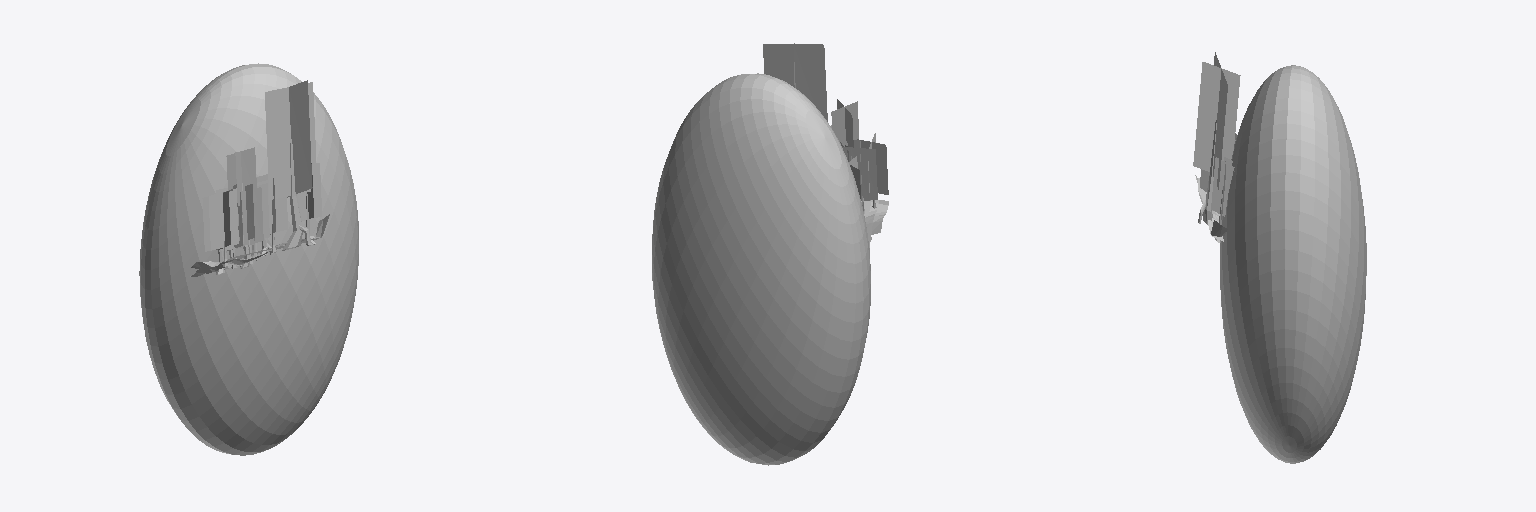
File: grab.obj
3 renders of one model, left to right at view 1: azimuth 30°, elevation 25°; view 2: azimuth 150°, elevation 25°; view 3: azimuth 270°, elevation 25°, orthographic.
Visible parts, largest first — view 1: DrawCall_0, DrawCall_250, DrawCall_272, DrawCall_270, DrawCall_17, DrawCall_274, DrawCall_273, DrawCall_251, DrawCall_3; view 2: DrawCall_0, DrawCall_250, DrawCall_270, DrawCall_272, DrawCall_256; view 3: DrawCall_0, DrawCall_250, DrawCall_251.
Part boxes in pixels (bbox=[...]): DrawCall_0: bbox=[139, 63, 358, 455]; DrawCall_250: bbox=[265, 80, 317, 199]; DrawCall_272: bbox=[209, 190, 238, 250]; DrawCall_270: bbox=[226, 147, 256, 205]; DrawCall_17: bbox=[282, 139, 310, 250]; DrawCall_274: bbox=[257, 178, 287, 234]; DrawCall_273: bbox=[236, 187, 263, 248]; DrawCall_251: bbox=[297, 163, 321, 220]; DrawCall_3: bbox=[191, 214, 329, 268]; DrawCall_0: bbox=[652, 73, 870, 465]; DrawCall_250: bbox=[763, 43, 827, 121]; DrawCall_270: bbox=[831, 99, 858, 147]; DrawCall_272: bbox=[857, 133, 888, 200]; DrawCall_256: bbox=[842, 147, 868, 197]; DrawCall_0: bbox=[1220, 65, 1366, 463]; DrawCall_250: bbox=[1193, 52, 1240, 189]; DrawCall_251: bbox=[1211, 157, 1234, 219].
Size of the model in its own units: 1783 by 3311 by 1296.